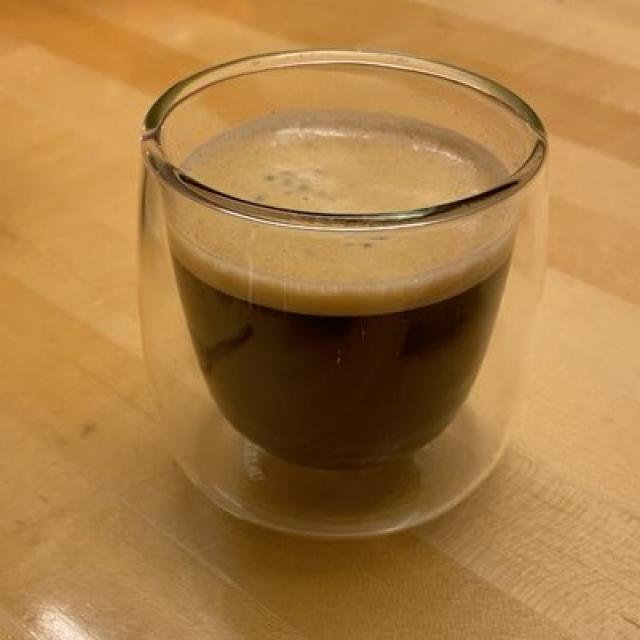espresso-with-caffeine: (166, 139, 516, 479)
